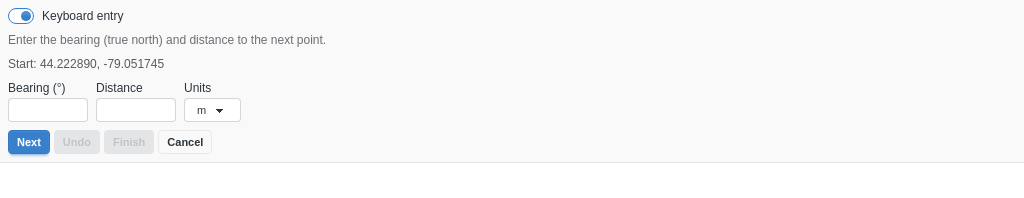
MyMapsTextEntry › lists the start coordinate and each entered segment
The image size is (1024, 198).
Type "90" into the field labelled "Bearing (°)" at x=48, y=110, box [8,98,88,122]
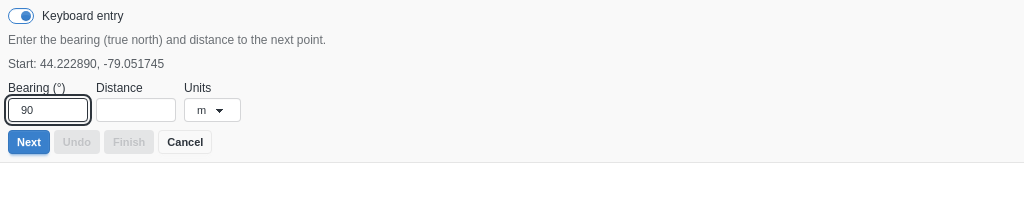
Type "100" into the field labelled "Distance" at x=136, y=110, box [96,98,176,122]
Then press Enter
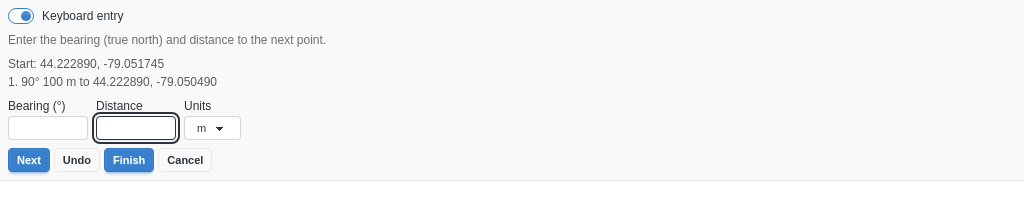
Check: the list with test id "mymaps-text-entry-history" reads "Start: 44.222890, -79.051745 1. 90° 100 m to 44.222890, -79.050490", box [8,57,217,89]
Check: the list with test id "mymaps-text-entry-history" shows "1. 90° 100 m to", box [8,57,217,89]
